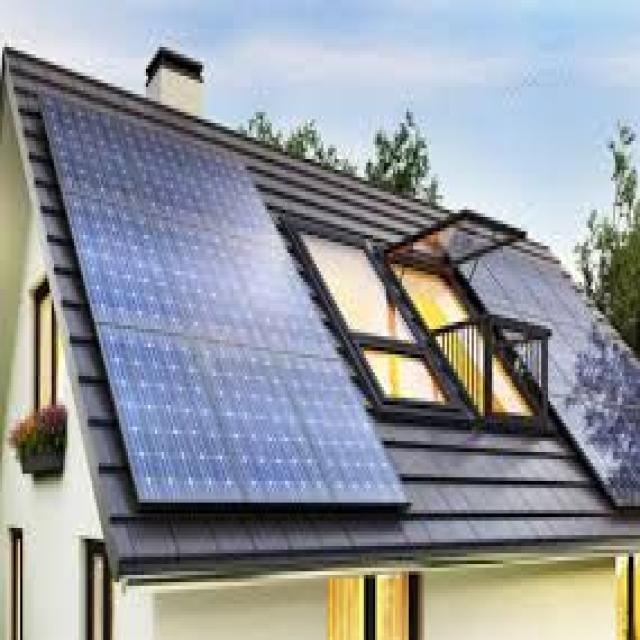clean-solar-panel: (45, 95, 404, 499)
